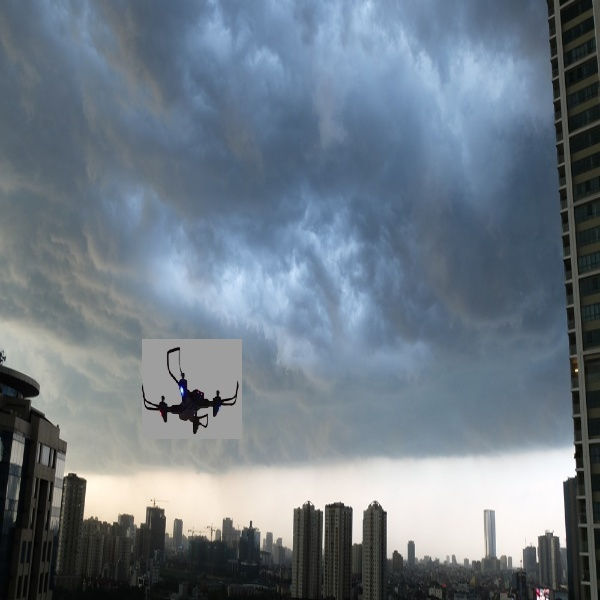drone: (146, 338, 239, 438)
